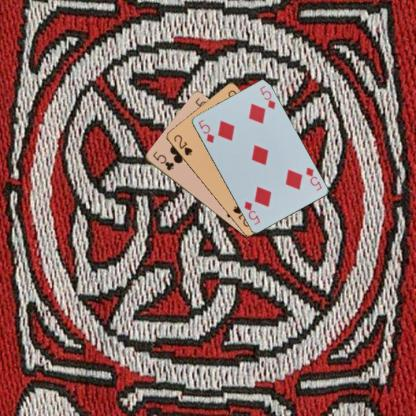2s: (171, 132, 194, 156)
5c: (150, 148, 175, 172)
5d: (303, 164, 323, 192), (196, 117, 215, 144)
